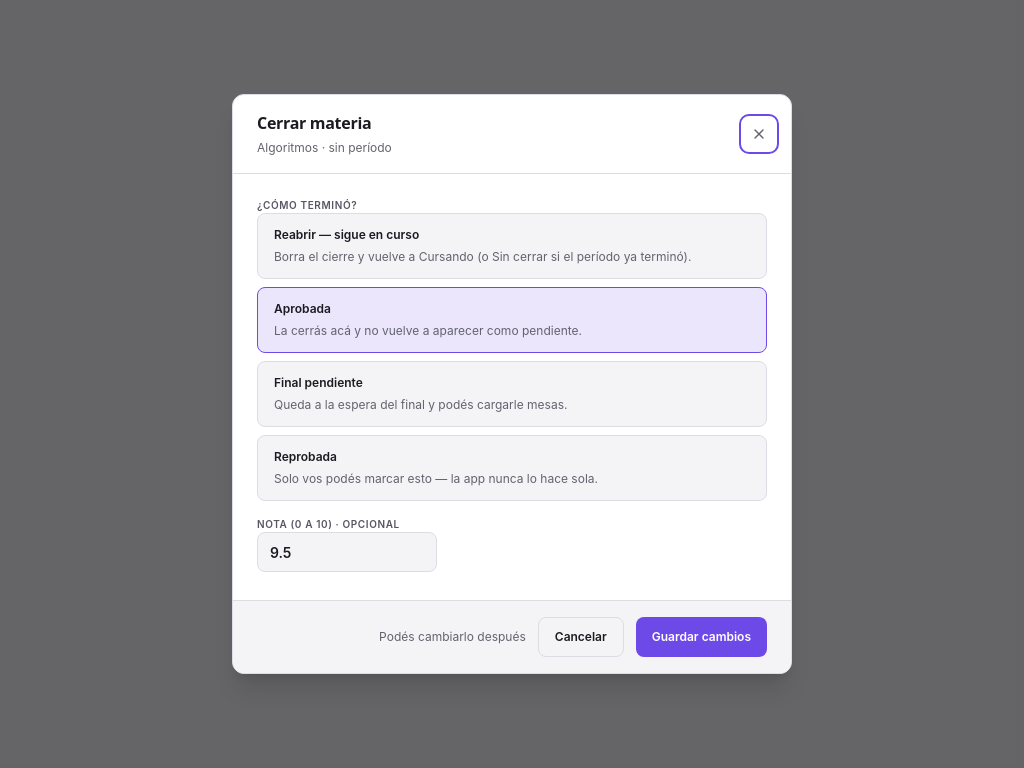
CerrarMateriaModal — stored-nota erasure warning › interpolates the actual stored nota into the warning
What coordinates should you click on to do the following:
click the button "Final pendiente"
I would click on:
 (512, 394)
Its box is [257, 361, 767, 427].
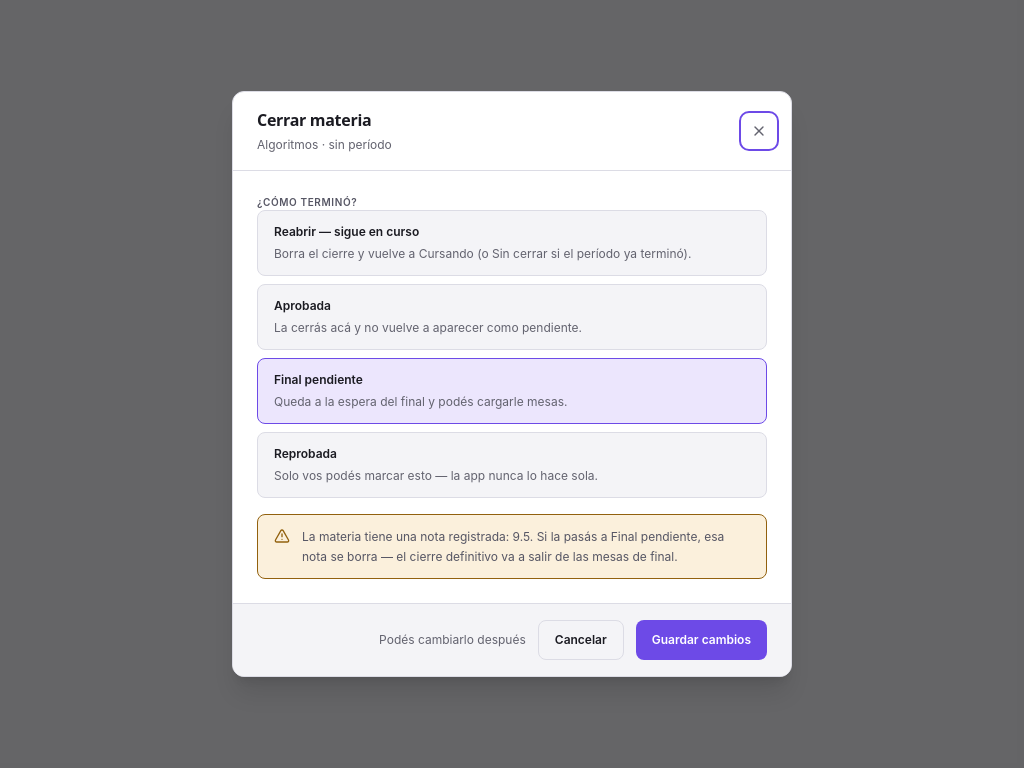
Check: the text "nota registrada: 9.5." is shown, box [302, 529, 724, 564]
